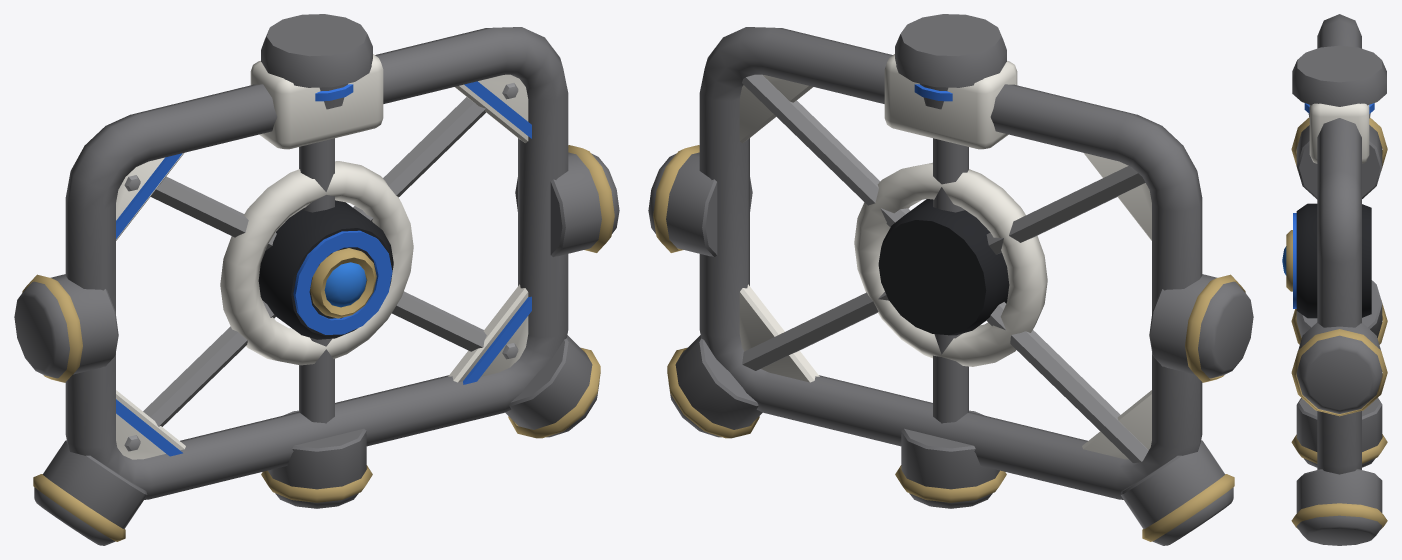
File: Kit_Limb_Frame_S.glb
3 views of the same model, side by side, from view 1: azimuth 30°, elevation 25°; view 2: azimuth 150°, elevation 25°; view 3: azimuth 270°, elevation 25° (orthographic). The views are drawn at different scales.
Visible parts, largest first — view 1: Kit_Limb_Frame_S; view 2: Kit_Limb_Frame_S; view 3: Kit_Limb_Frame_S.
Boxes of the visible parts, x1,y1,x2,y2 form: Kit_Limb_Frame_S: [14, 14, 619, 545]; Kit_Limb_Frame_S: [648, 14, 1253, 545]; Kit_Limb_Frame_S: [1282, 14, 1387, 545].
Size of the model in its own units: 0.5258 by 0.4059 by 0.0986.
